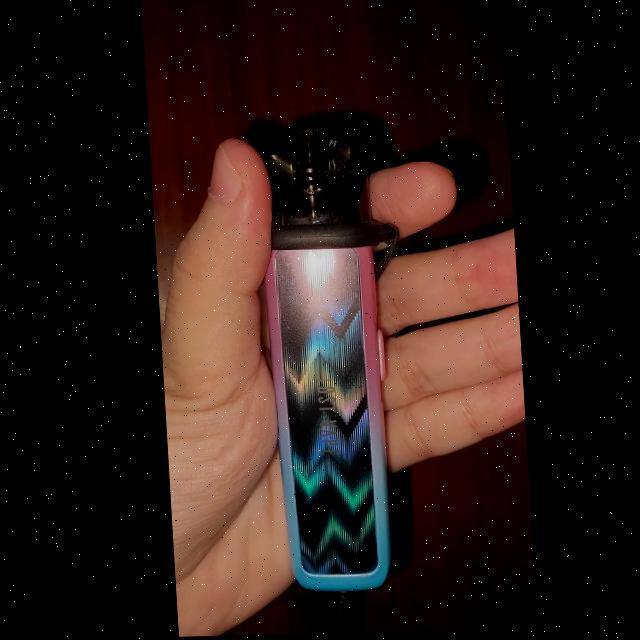vape: (257, 121, 387, 588)
